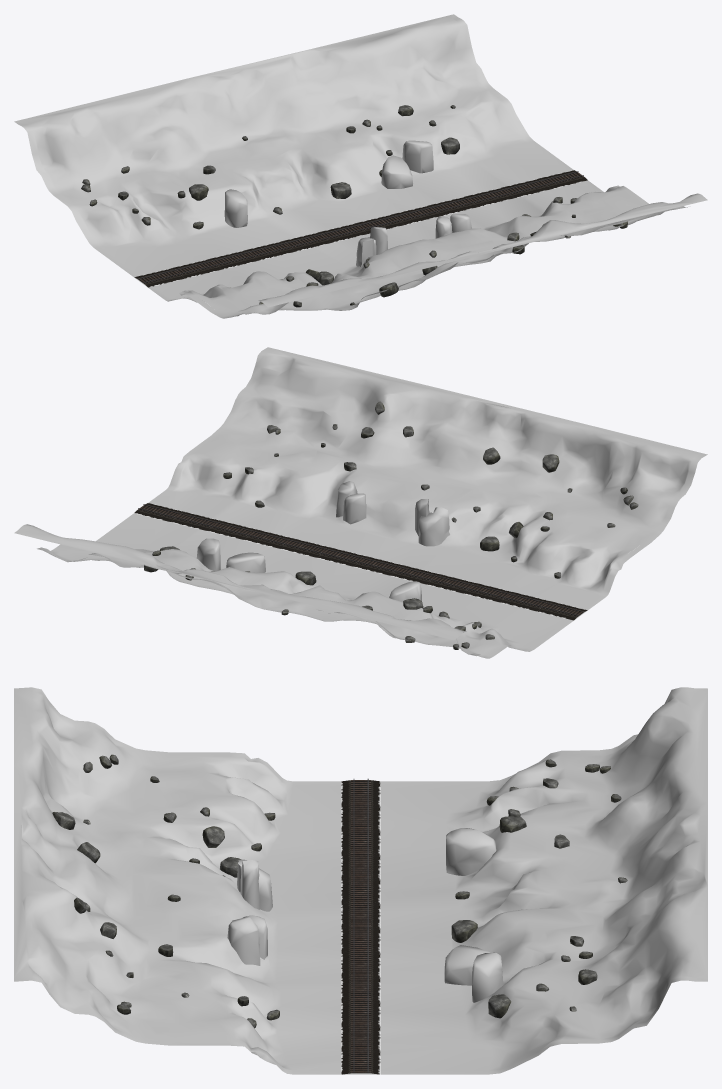
3 views of the same model, one above another, from view 1: azimuth 30°, elevation 25°; view 2: azimuth 150°, elevation 25°; view 3: azimuth 270°, elevation 25° (orthographic). The views are drawn at different scales.
Visible parts, largest first — view 1: terraintilled, trainrail, rocks, smallrock4, smallrock3, smallrock7; view 2: terraintilled, trainrail, rocks, smallrock8, smallrock3, smallrock4, smallrock1, smallrock7; view 3: terraintilled, trainrail, rocks, smallrock7, smallrock4, smallrock2, smallrock3, smallrock9, smallrock8.
Part boxes in pixels (left/top/right/bottom): terraintilled: left=14, top=14, right=707, bottom=318; trainrail: left=134, top=170, right=587, bottom=287; rocks: left=81, top=105, right=627, bottom=307; smallrock4: left=402, top=140, right=433, bottom=173; smallrock3: left=381, top=155, right=412, bottom=188; smallrock7: left=224, top=189, right=247, bottom=227; terraintilled: left=14, top=347, right=707, bottom=658; trainrail: left=134, top=503, right=587, bottom=620; rocks: left=144, top=401, right=638, bottom=649; smallrock8: left=418, top=507, right=449, bottom=546; smallrock3: left=226, top=552, right=265, bottom=572; smallrock4: left=196, top=538, right=220, bottom=571; smallrock1: left=343, top=493, right=366, bottom=524; smallrock7: left=389, top=581, right=421, bottom=601; terraintilled: left=14, top=687, right=707, bottom=1074; trainrail: left=341, top=778, right=380, bottom=1074; rocks: left=52, top=754, right=627, bottom=1028; smallrock7: left=446, top=828, right=496, bottom=875; smallrock4: left=472, top=952, right=503, bottom=1002; smallrock2: left=227, top=917, right=260, bottom=965; smallrock3: left=444, top=945, right=489, bottom=985; smallrock9: left=240, top=860, right=259, bottom=909; smallrock8: left=237, top=859, right=272, bottom=911.
Bounding box in the file's own units: 20000 × 3177 × 20000.
